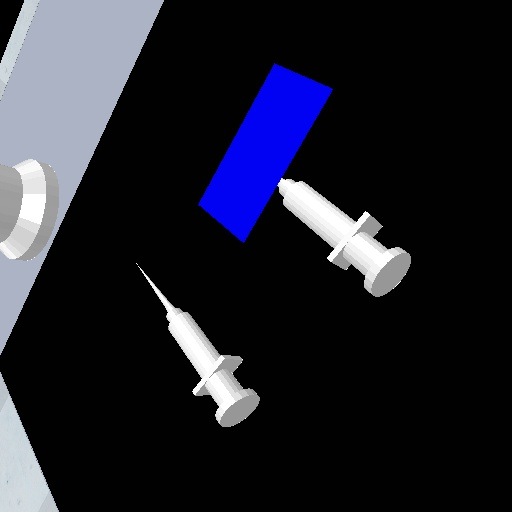jeringuilla: (133, 258, 266, 434), (275, 176, 414, 301)
